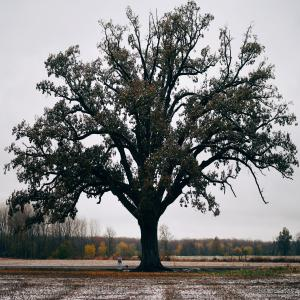Tree: (6, 0, 299, 268)
